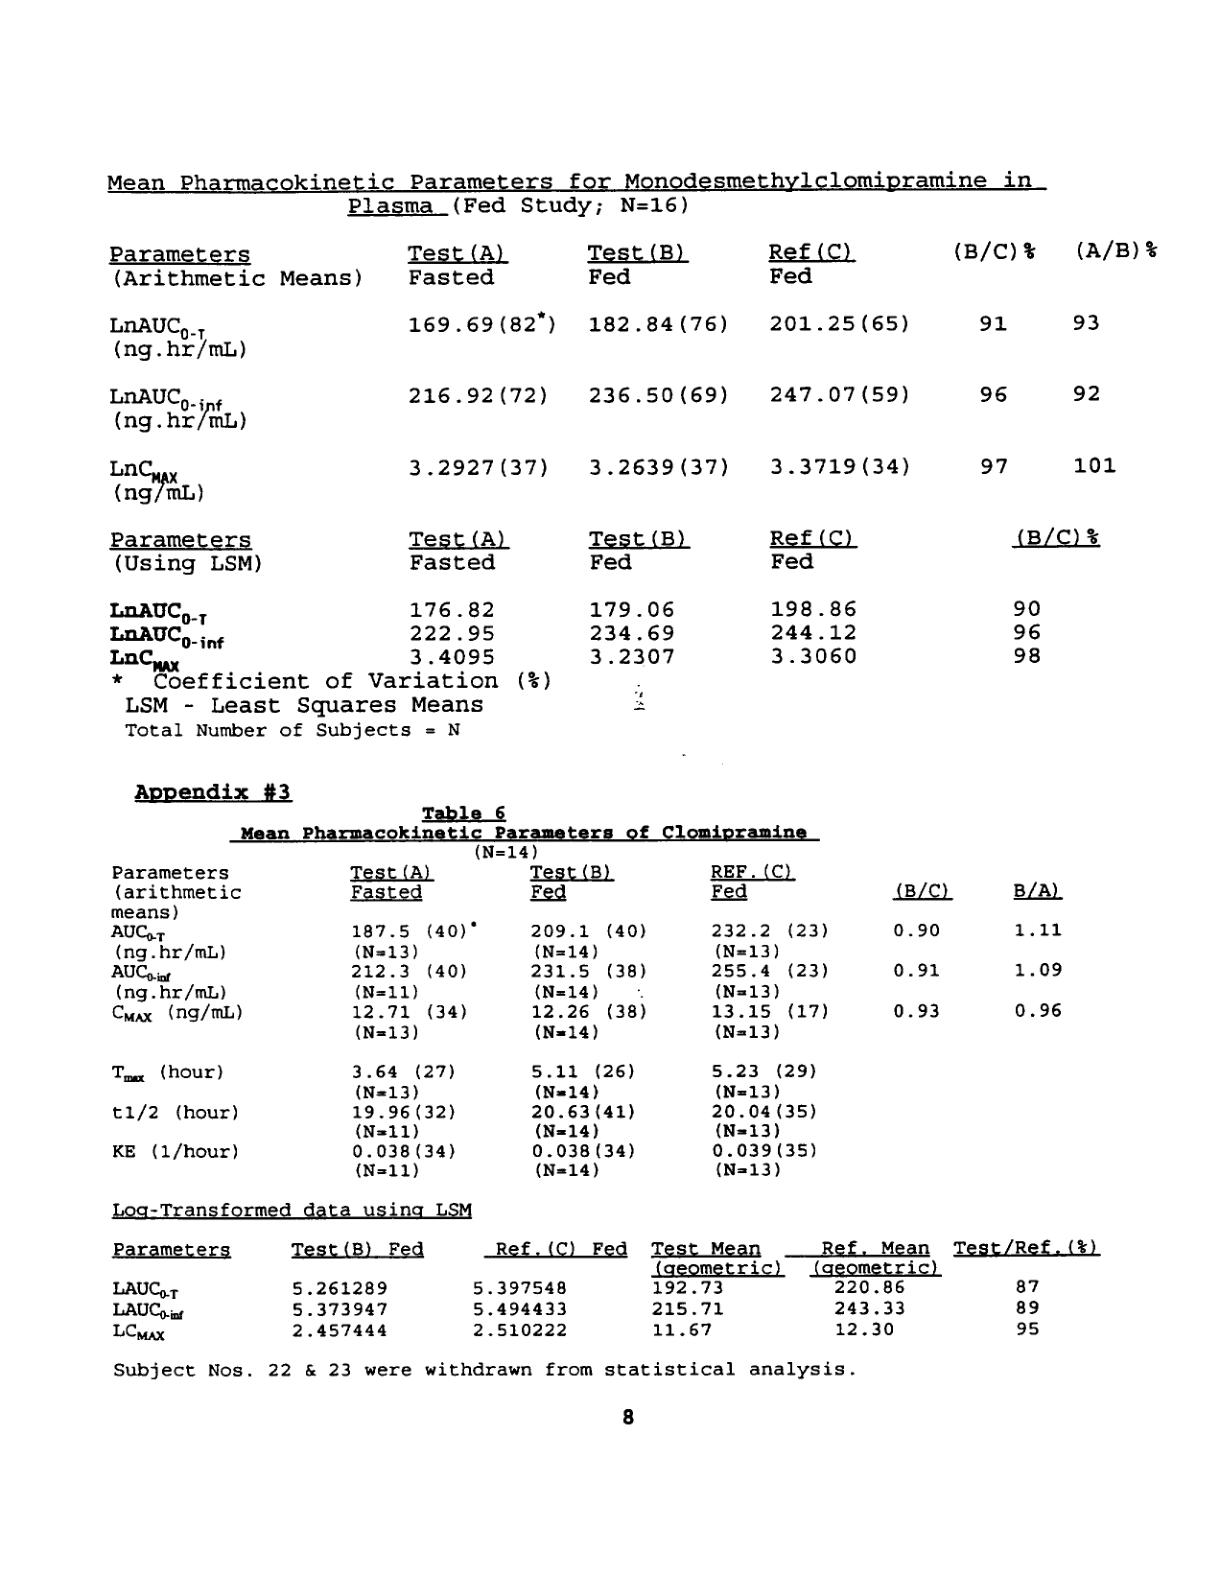nolines: (109, 861, 1065, 1179), (107, 243, 1158, 504), (107, 530, 1106, 674), (110, 1237, 1104, 1344)
